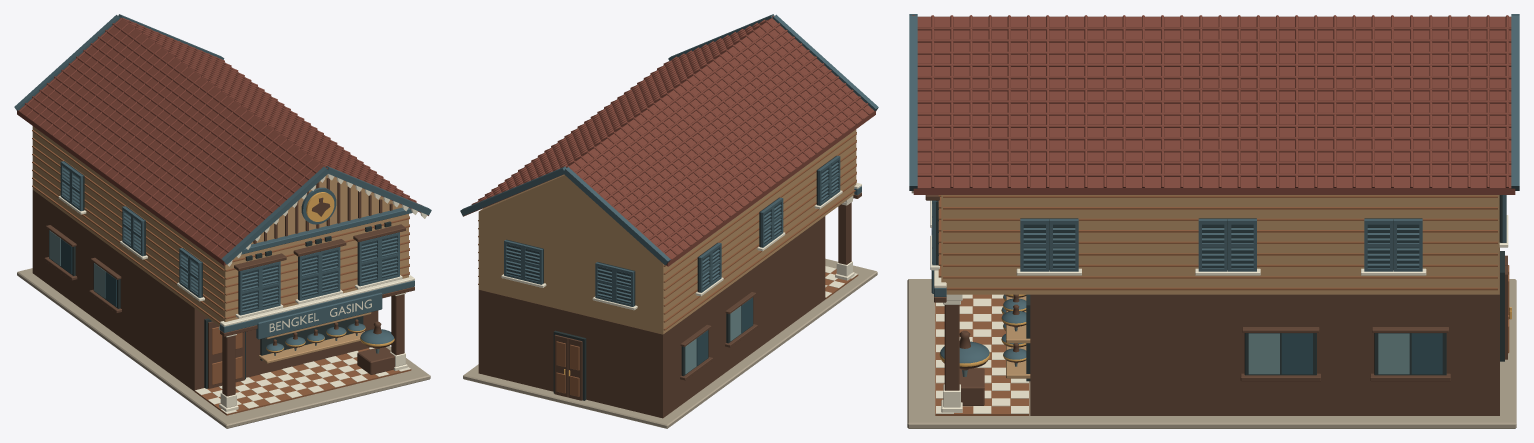
3 renders of one model, left to right at view 1: azimuth 30°, elevation 25°; view 2: azimuth 150°, elevation 25°; view 3: azimuth 270°, elevation 25°, orthographic. The views are drawn at different scales.
Parts seen in each view (by area): view 1: Timber merchant house, Painted front gable, Louvred shutters, Five foot way mosaic, Workshop fittings, Casements and sills, Five foot way, Entrance joinery, Turned gasing display, Cast lettering; view 2: Timber merchant house, Painted front gable, Louvred shutters, Casements and sills, Entrance joinery, Five foot way, Five foot way mosaic; view 3: Timber merchant house, Louvred shutters, Casements and sills, Five foot way mosaic, Painted front gable, Turned gasing display, Workshop fittings, Five foot way, Entrance joinery.
Boxes of the visible parts, x1=… form: Timber merchant house: x1=17, y1=17, x2=430, y2=428; Painted front gable: x1=14, y1=14, x2=431, y2=336; Louvred shutters: x1=58, y1=161, x2=402, y2=318; Five foot way mosaic: x1=194, y1=347, x2=411, y2=415; Workshop fittings: x1=256, y1=292, x2=394, y2=374; Casements and sills: x1=44, y1=225, x2=121, y2=313; Five foot way: x1=219, y1=292, x2=407, y2=411; Entrance joinery: x1=204, y1=318, x2=245, y2=388; Turned gasing display: x1=266, y1=319, x2=394, y2=355; Cast lettering: x1=269, y1=299, x2=371, y2=332; Timber merchant house: x1=463, y1=15, x2=877, y2=428; Painted front gable: x1=460, y1=14, x2=878, y2=265; Louvred shutters: x1=501, y1=155, x2=842, y2=310; Casements and sills: x1=680, y1=292, x2=757, y2=380; Entrance joinery: x1=553, y1=330, x2=586, y2=400; Five foot way: x1=835, y1=196, x2=854, y2=280; Five foot way mosaic: x1=825, y1=266, x2=858, y2=299; Timber merchant house: x1=907, y1=15, x2=1516, y2=428; Louvred shutters: x1=930, y1=195, x2=1508, y2=275; Casements and sills: x1=1240, y1=327, x2=1450, y2=381; Five foot way mosaic: x1=935, y1=294, x2=1029, y2=415; Painted front gable: x1=909, y1=14, x2=1519, y2=302; Turned gasing display: x1=939, y1=294, x2=1026, y2=376; Workshop fittings: x1=931, y1=228, x2=1030, y2=405; Five foot way: x1=941, y1=294, x2=962, y2=412; Entrance joinery: x1=1500, y1=251, x2=1511, y2=361.
Size of the model in its own units: 7.93 by 8.61 by 13.97.
